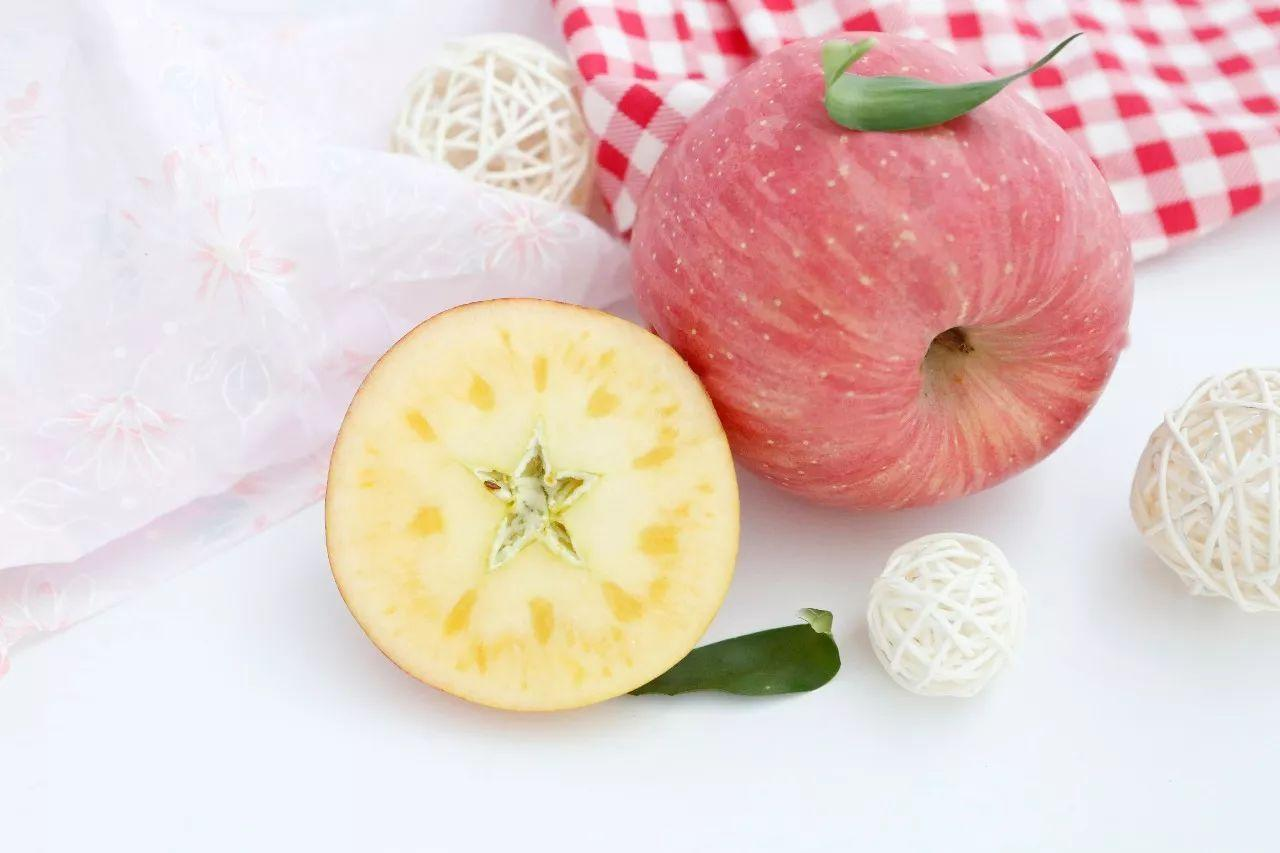apple: (611, 31, 1127, 520)
